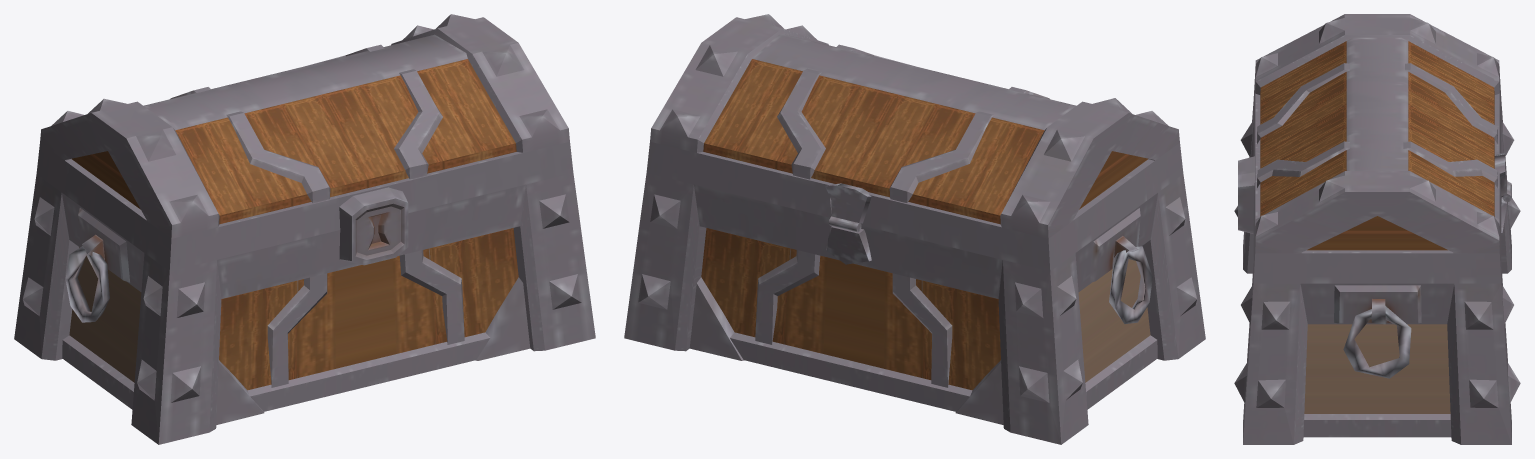
Rendered from strongbox.glb.
3 renders of one model, left to right at view 1: azimuth 30°, elevation 25°; view 2: azimuth 150°, elevation 25°; view 3: azimuth 270°, elevation 25°, orthographic. The views are drawn at different scales.
Visible parts, largest first — view 1: k_chest_kit; view 2: k_chest_kit; view 3: k_chest_kit.
Boxes of the visible parts, x1=… form: k_chest_kit: x1=14, y1=14, x2=595, y2=444; k_chest_kit: x1=624, y1=14, x2=1205, y2=444; k_chest_kit: x1=1234, y1=14, x2=1520, y2=444.
Size of the model in its own units: 1.1 by 0.617 by 0.6516.
Materials: 1 (1 with a texture image).
